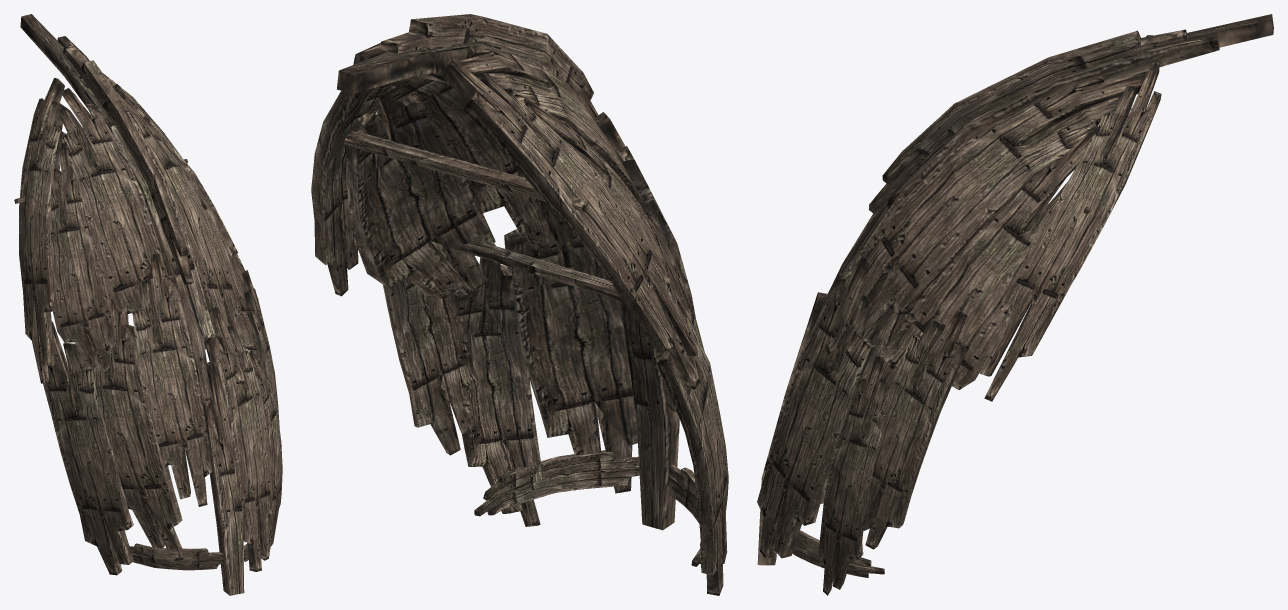
The model's file is d_sg_shouyou_chuan02_qt.FBX.
3 renders of one model, left to right at view 1: azimuth 30°, elevation 25°; view 2: azimuth 150°, elevation 25°; view 3: azimuth 270°, elevation 25°, orthographic. The views are drawn at different scales.
Visible parts, largest first — view 1: d_sg_shouyou_chuan01_qt; view 2: d_sg_shouyou_chuan01_qt; view 3: d_sg_shouyou_chuan01_qt.
Part boxes in pixels (x1,y1,x2,y2): d_sg_shouyou_chuan01_qt: [14, 14, 282, 595]; d_sg_shouyou_chuan01_qt: [311, 14, 728, 595]; d_sg_shouyou_chuan01_qt: [757, 14, 1273, 595].
Bounding box in the file's own units: 3049 × 5668 × 4913.
